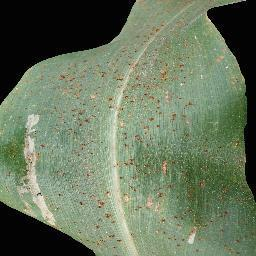Corn_Common_Rust: (0, 73, 256, 256), (32, 0, 242, 83)
